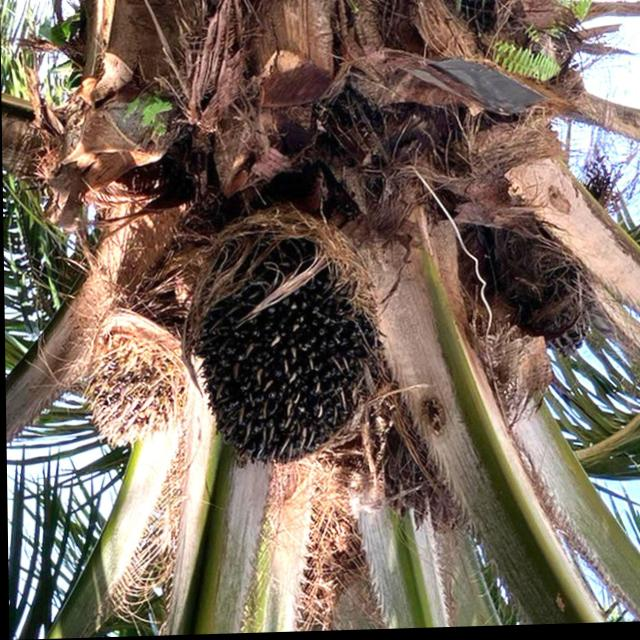unripe: (171, 210, 402, 480)
